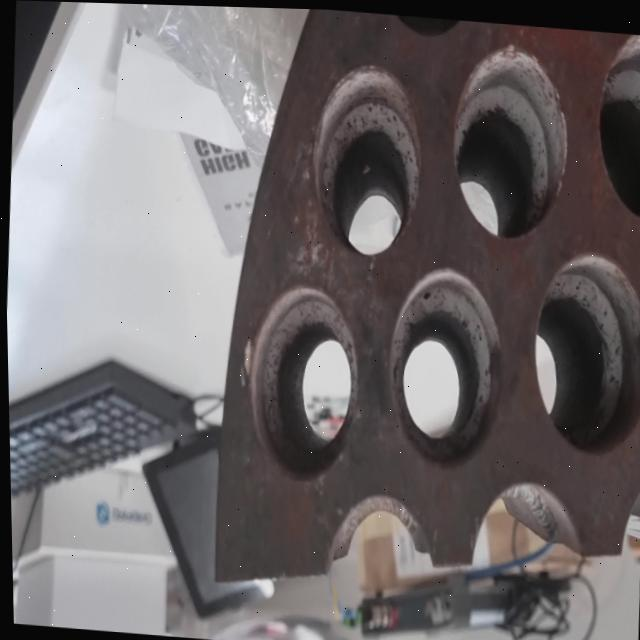Hole: (380, 262, 508, 473), (235, 280, 364, 485), (447, 37, 574, 244), (305, 58, 428, 258), (525, 246, 640, 459), (589, 28, 640, 221)
